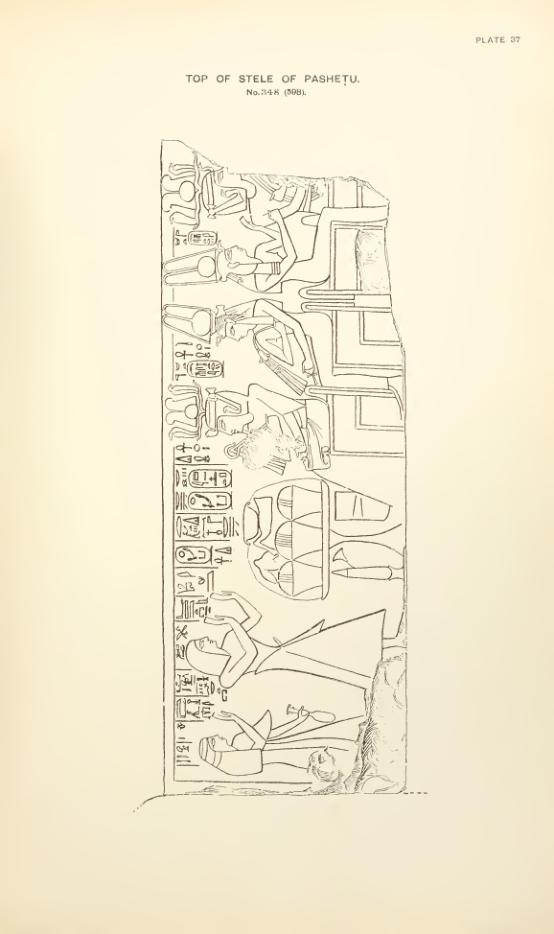circle: (185, 466, 238, 490), (185, 488, 236, 512), (171, 543, 216, 567), (183, 356, 227, 378), (187, 228, 221, 251)
